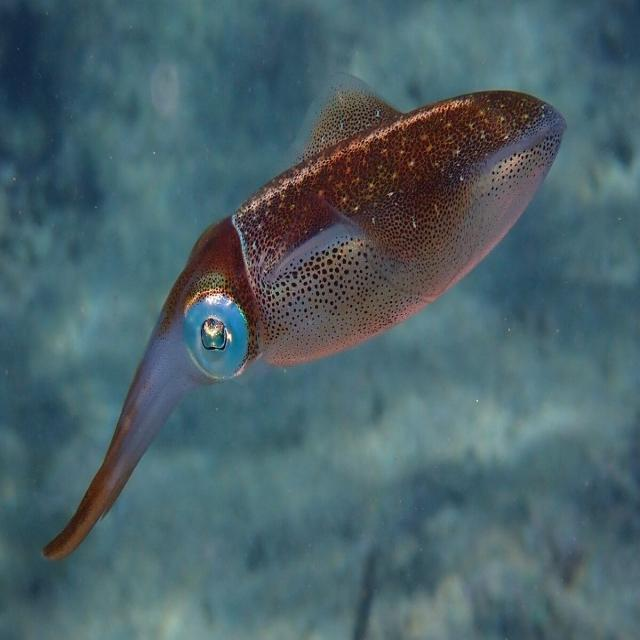SQUID: (31, 81, 576, 572)
